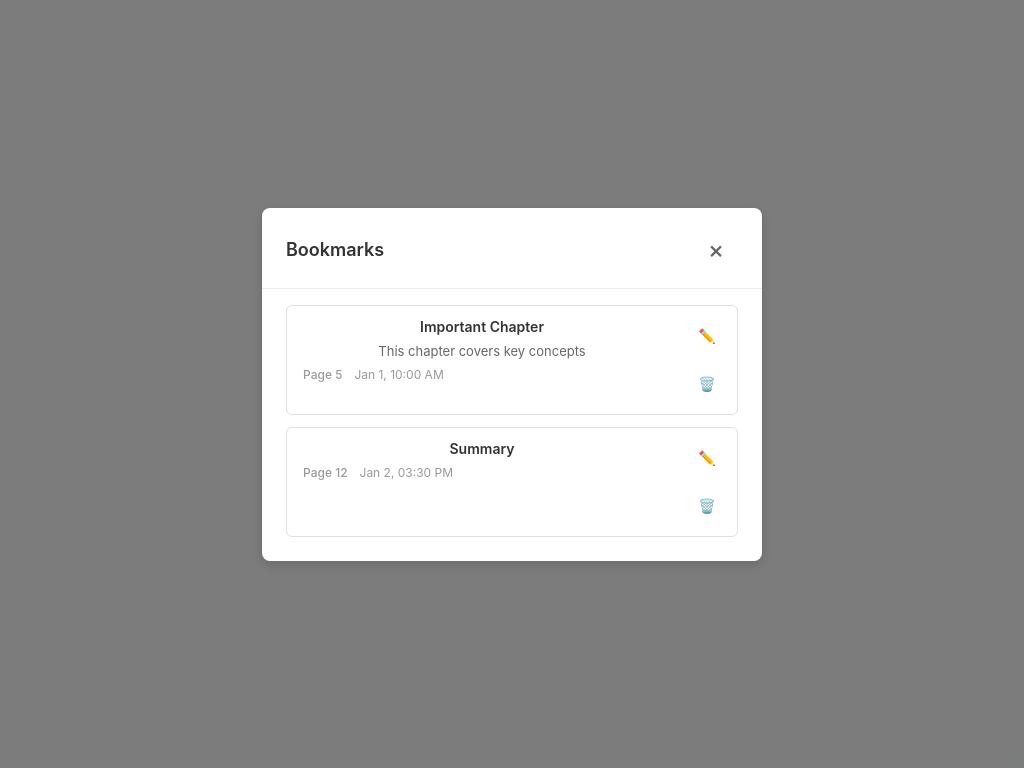
Test: BookmarkPanel › cancels edit mode when cancel button is clicked
Click the button named "Edit bookmark". click: [707, 336]
box: [685,314,729,358]
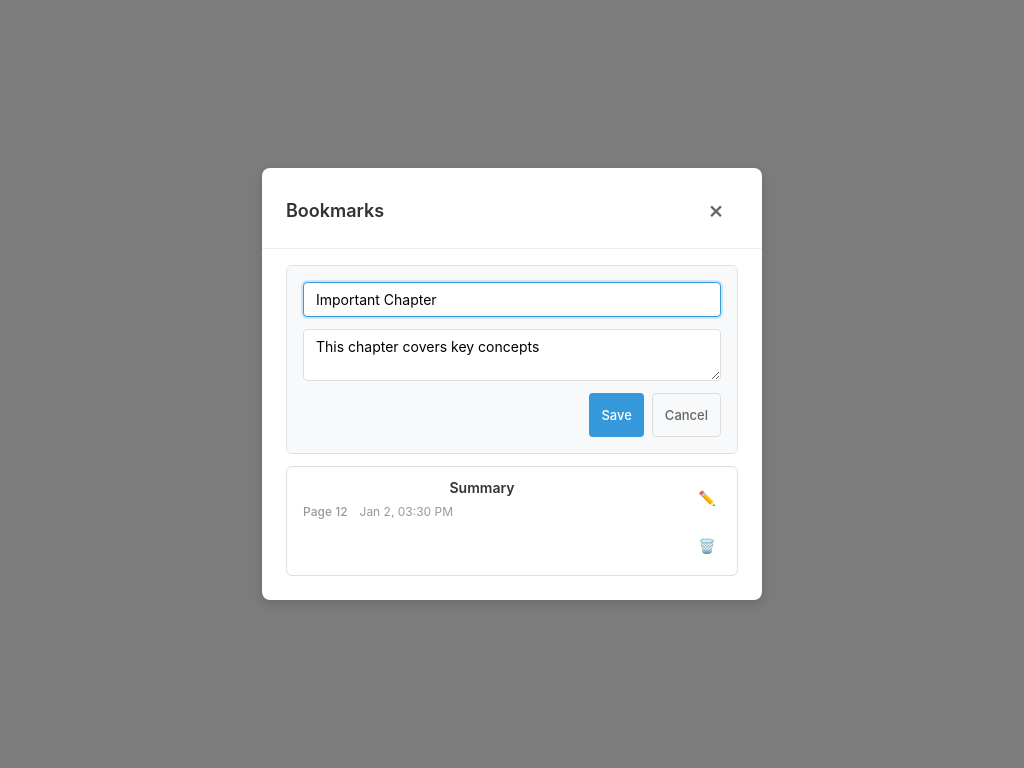
Replace the text in the field showing "Important Chapter" with "Changed Title". click: [512, 300]
box: [303,282,721,317]
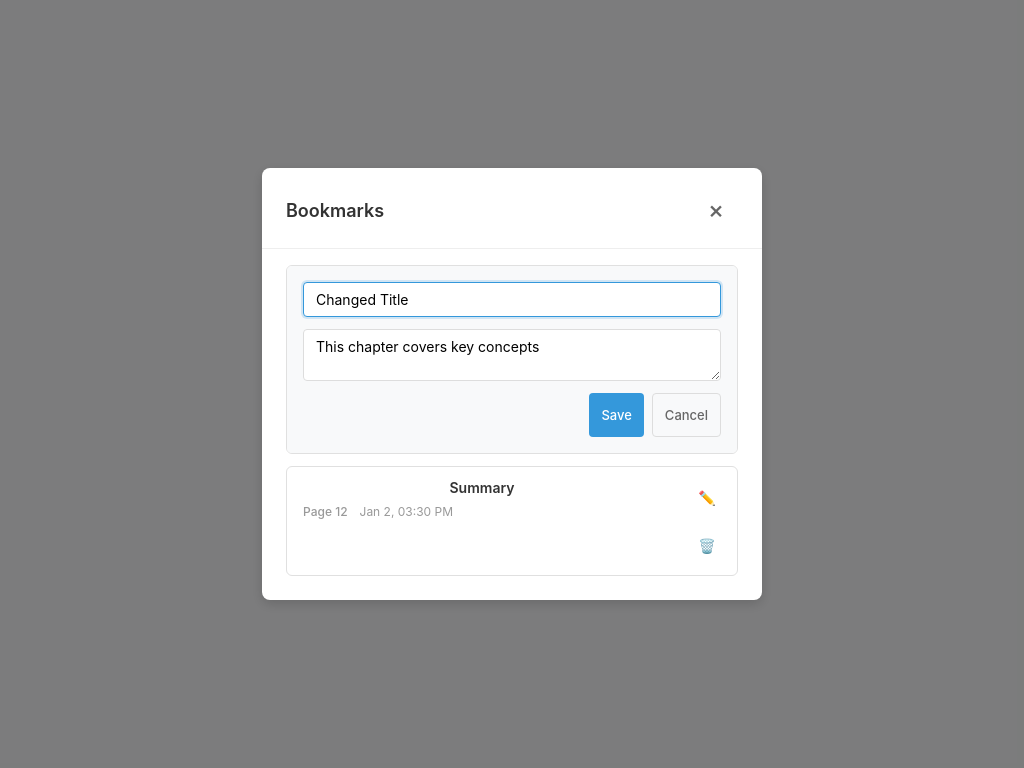
Click the button "Cancel". click: [686, 415]
box: [652,393,721,437]
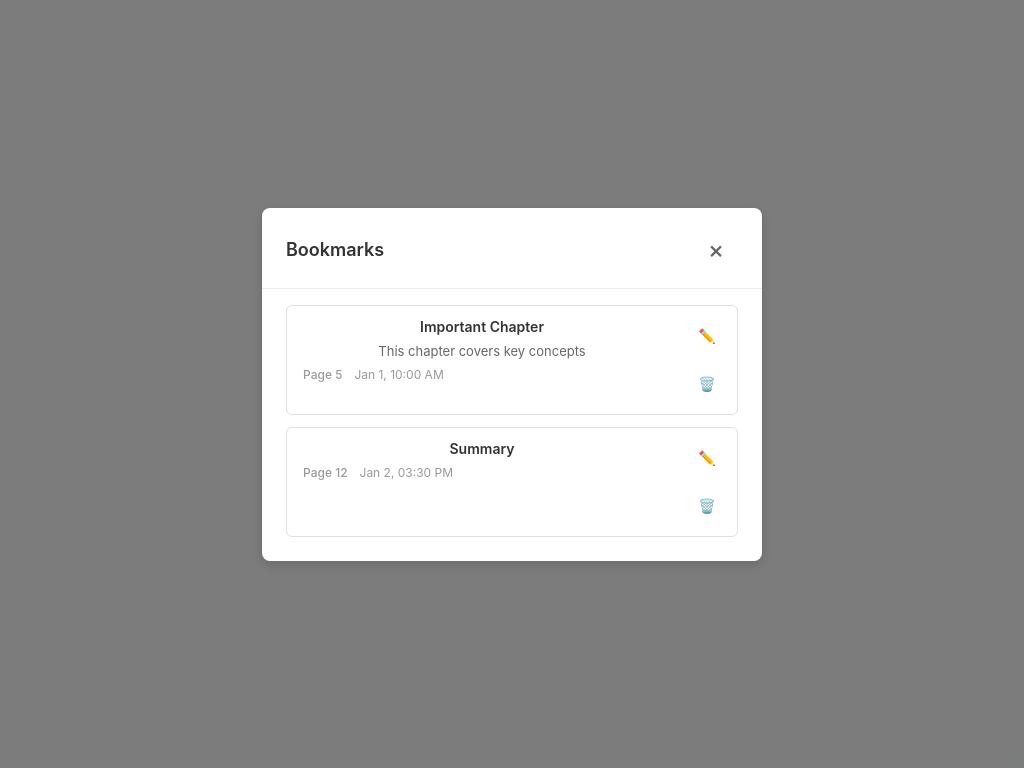
Expected: the field showing "Changed Title" is not shown
Expected: the heading "Important Chapter" is shown, [420,318,544,334]
